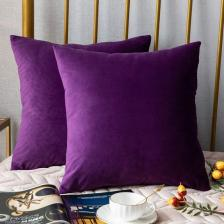purple: (54, 42, 210, 193), (10, 35, 67, 170), (63, 35, 151, 53)
